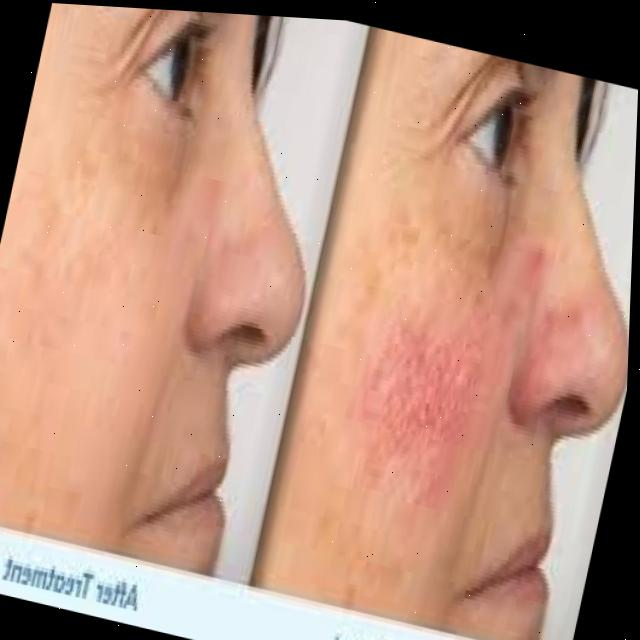Rosacea: (343, 205, 560, 519)
